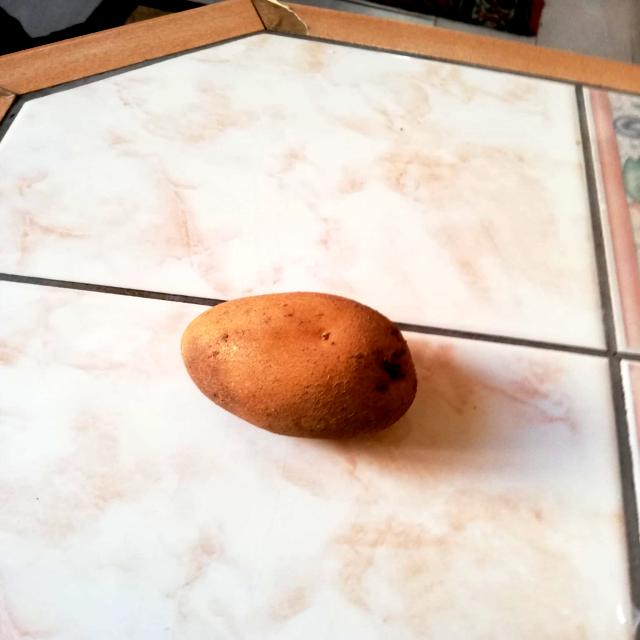potato: (172, 283, 425, 448)
